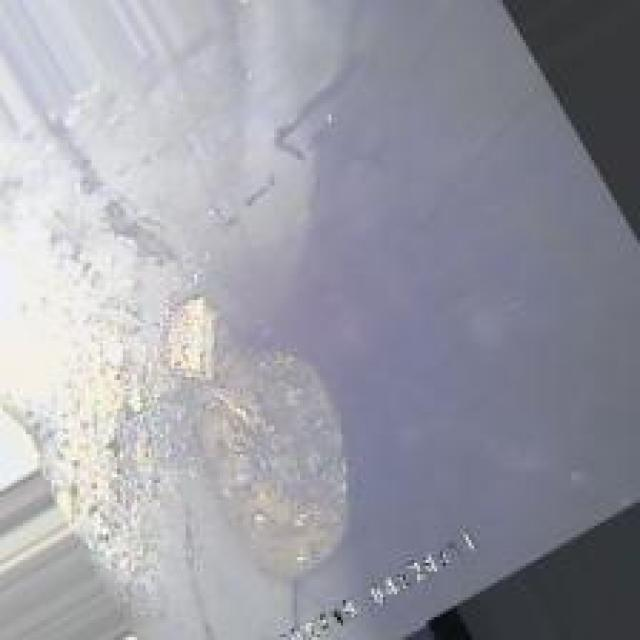stone: (191, 346, 346, 566)
